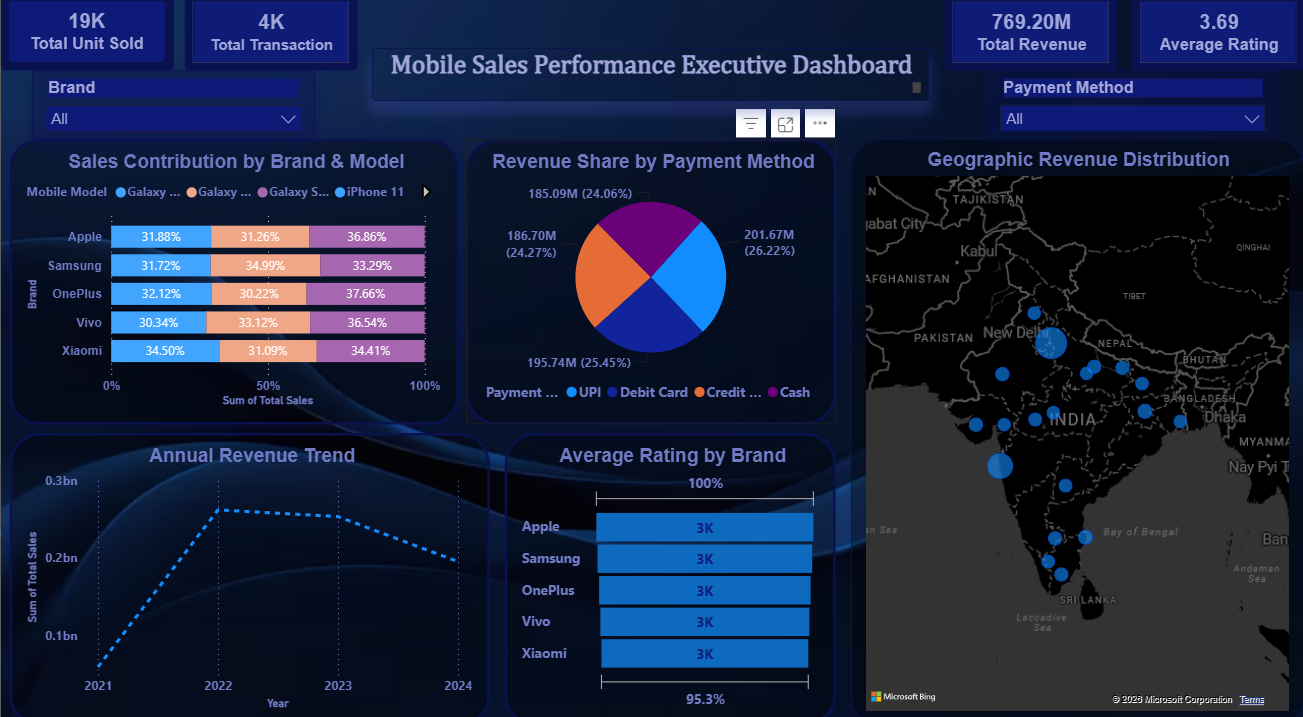

What the dashboard file says about the page in this screenshot:
{"tool":"powerbi","page":{"name":"Page 1","canvas":[1280,720],"ordinal":0},"visuals":[{"type":"hundredPercentStackedBarChart","title":"Sales Contribution by Brand & Model","fields":{"Category":["Sheet1.Brand"],"Series":["Sheet1.Mobile Model"],"Y":["Sum(Sheet1.Total Sales)"]},"box":[8.6,143.6,440.5,279.8],"z":0},{"type":"pieChart","title":"Revenue Share by Payment Method","fields":{"Category":["Sheet1.Payment Method"],"Y":["Sum(Sheet1.Total Sales)"]},"box":[456.4,143.6,363.2,279.8],"z":1000},{"type":"lineChart","title":"Annual Revenue Trend","fields":{"Y":["Sum(Sheet1.Total Sales)"],"Category":["Sheet1.Date.Variation.Date Hierarchy.Year","Sheet1.Date.Variation.Date Hierarchy.Quarter","Sheet1.Date.Variation.Date Hierarchy.Month","Sheet1.Date.Variation.Date Hierarchy.Day"]},"box":[8.6,431.9,471.2,288.3],"z":2000},{"type":"funnel","title":"Average Rating by Brand","fields":{"Y":["Sum(Sheet1.Customer Ratings)"],"Category":["Sheet1.Brand"]},"box":[494.5,431.9,325.2,288.3],"z":3000},{"type":"cardVisual","fields":{"Data":["Sheet1.Total Unit Sold"]},"box":[0,0,169.3,76.1],"z":4000},{"type":"cardVisual","fields":{"Data":["Sheet1.Total Transaction"]},"box":[180.4,0,169.3,76.1],"z":5000},{"type":"cardVisual","fields":{"Data":["Sheet1.Average Rating"]},"box":[926.4,0,169.3,76.1],"z":6000},{"type":"cardVisual","fields":{"Data":["Sheet1.Average Rating"]},"box":[1110.4,0,169.3,76.1],"z":7000},{"type":"textbox","title":"Mobile Sales Performance Executive Dashboard","box":[364.4,54.4,546.7,52.2],"z":8000},{"type":"slicer","fields":{"Values":["Sheet1.Brand"]},"box":[30.7,76.1,277.3,67.5],"z":9000},{"type":"slicer","fields":{"Values":["Sheet1.Payment Method"]},"box":[968.1,76.1,285.9,60.1],"z":10000},{"type":"map","title":"Geographic Revenue Distribution","fields":{"Category":["Sheet1.City"],"Size":["Sum(Sheet1.Total Sales)"]},"box":[834.4,143.6,445.4,576.7],"z":11000}]}

Visuals, with their boxes in screenshot pixels (x1, y1, x2, y2), scaled from the page's 1280x720 canvas onto the 1303x717 screenshot:
"Sales Contribution by Brand & Model" hundredPercentStackedBarChart: detection(9, 143, 457, 422)
"Revenue Share by Payment Method" pieChart: detection(465, 143, 834, 422)
"Annual Revenue Trend" lineChart: detection(9, 430, 488, 716)
"Average Rating by Brand" funnel: detection(503, 430, 834, 716)
cardVisual - Sheet1.Total Unit Sold: detection(0, 0, 172, 76)
cardVisual - Sheet1.Total Transaction: detection(184, 0, 356, 76)
cardVisual - Sheet1.Average Rating: detection(943, 0, 1115, 76)
cardVisual - Sheet1.Average Rating: detection(1130, 0, 1302, 76)
"Mobile Sales Performance Executive Dashboard" textbox: detection(371, 54, 927, 106)
slicer - Sheet1.Brand: detection(31, 76, 314, 143)
slicer - Sheet1.Payment Method: detection(985, 76, 1277, 136)
"Geographic Revenue Distribution" map: detection(849, 143, 1302, 716)
